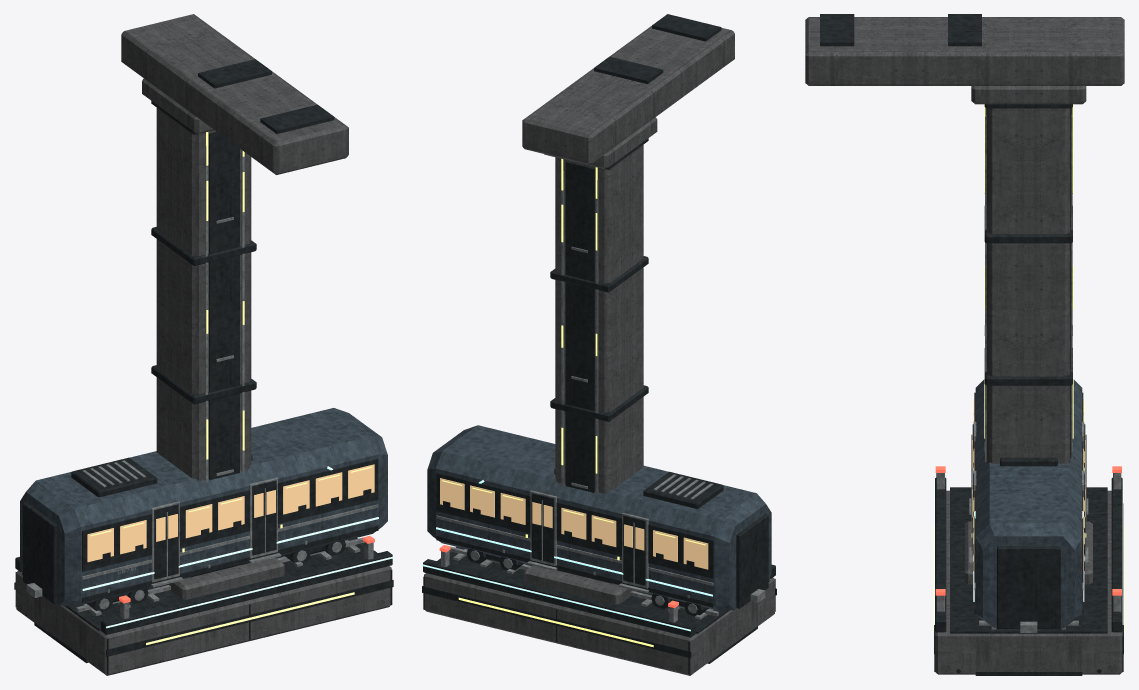
Rendered from elevated-rail-v1.glb.
3 views of the same model, side by side, from view 1: azimuth 30°, elevation 25°; view 2: azimuth 150°, elevation 25°; view 3: azimuth 270°, elevation 25° (orthographic). The views are drawn at different scales.
Parts seen in each view (by area): view 1: RailPierReplacement_Concrete, TrainCarReplacement_MidnightBody, RailPierReplacement_BlackSteel, TrainCarReplacement_BlackSteel, RailDeck_Concrete, TrainMiddle_MidnightBody, RailDeck_BlackSteel, TrainCarReplacement_WarmWindows, TrainCarReplacement_WornAlloy, TrainMiddle_BlackSteel, RailPierReplacement_WornAlloy, TrainMiddle_WarmWindows (+5 smaller); view 2: RailPierReplacement_Concrete, TrainMiddle_MidnightBody, RailPierReplacement_BlackSteel, RailDeck_Concrete, TrainCarReplacement_MidnightBody, TrainCarReplacement_BlackSteel, RailDeck_BlackSteel, TrainMiddle_BlackSteel, TrainCarReplacement_WarmWindows, TrainCarReplacement_WornAlloy, RailPierReplacement_WornAlloy, TrainMiddle_WarmWindows (+5 smaller); view 3: RailPierReplacement_Concrete, TrainMiddle_MidnightBody, RailDeck_BlackSteel, RailDeck_Concrete, RailPierReplacement_BlackSteel, TrainMiddle_BlackSteel, TrainCarReplacement_MidnightBody, TrainCarReplacement_BlackSteel, RailPierReplacement_WornAlloy, TrainCarReplacement_WornAlloy, RailDeck_WornAlloy, RailPierReplacement_AmberSignal.
Boxes of the visible parts, <box> form: RailPierReplacement_Concrete: <box>121,14,348,599</box>; TrainCarReplacement_MidnightBody: <box>20,424,326,606</box>; RailPierReplacement_BlackSteel: <box>151,59,334,577</box>; TrainCarReplacement_BlackSteel: <box>23,454,345,611</box>; RailDeck_Concrete: <box>16,566,391,675</box>; TrainMiddle_MidnightBody: <box>37,408,387,605</box>; RailDeck_BlackSteel: <box>14,538,393,674</box>; TrainCarReplacement_WarmWindows: <box>87,480,309,562</box>; TrainCarReplacement_WornAlloy: <box>26,460,342,609</box>; TrainMiddle_BlackSteel: <box>82,458,378,602</box>; RailPierReplacement_WornAlloy: <box>205,145,244,482</box>; TrainMiddle_WarmWindows: <box>315,464,374,506</box>; RailPierReplacement_Concrete: <box>522,26,734,604</box>; TrainMiddle_MidnightBody: <box>427,425,754,610</box>; RailPierReplacement_BlackSteel: <box>550,14,721,583</box>; RailDeck_Concrete: <box>424,573,774,675</box>; TrainCarReplacement_MidnightBody: <box>484,468,771,610</box>; TrainCarReplacement_BlackSteel: <box>466,469,768,616</box>; RailDeck_BlackSteel: <box>422,547,776,674</box>; TrainMiddle_BlackSteel: <box>436,473,712,606</box>; TrainCarReplacement_WarmWindows: <box>500,493,708,569</box>; TrainCarReplacement_WornAlloy: <box>470,474,765,613</box>; RailPierReplacement_WornAlloy: <box>561,171,598,495</box>; TrainMiddle_WarmWindows: <box>440,478,494,517</box>; RailPierReplacement_Concrete: <box>805,17,1124,584</box>; TrainMiddle_MidnightBody: <box>975,379,1082,627</box>; RailDeck_BlackSteel: <box>934,477,1123,675</box>; RailDeck_Concrete: <box>935,490,1122,674</box>; RailPierReplacement_BlackSteel: <box>820,14,1072,458</box>; TrainMiddle_BlackSteel: <box>973,393,1084,628</box>; TrainCarReplacement_MidnightBody: <box>975,379,1082,499</box>; TrainCarReplacement_BlackSteel: <box>972,392,1085,556</box>; RailPierReplacement_WornAlloy: <box>984,107,1072,462</box>; TrainCarReplacement_WornAlloy: <box>969,421,1088,573</box>; RailDeck_WornAlloy: <box>936,473,1121,629</box>; RailPierReplacement_AmberSignal: <box>984,104,1073,438</box>.
Bounding box in the file's own units: 9.65 × 14.9 × 7.5.
Materials: 9 (4 with a texture image).
